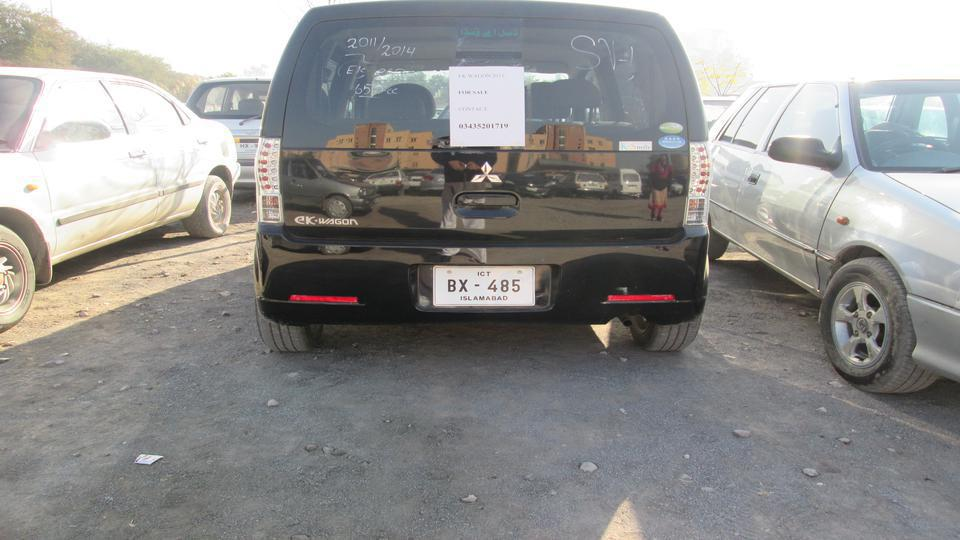NumberPlate: (429, 264, 541, 307)
